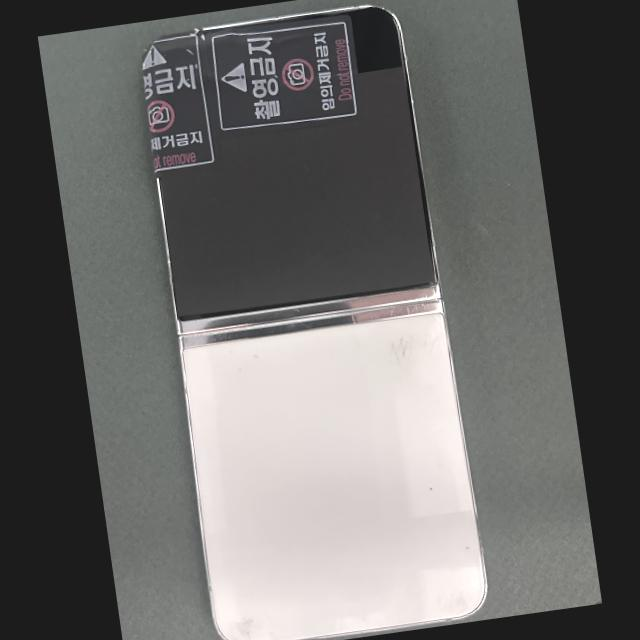phone: (142, 4, 488, 640)
sticker: (205, 14, 365, 138), (141, 27, 222, 180)
